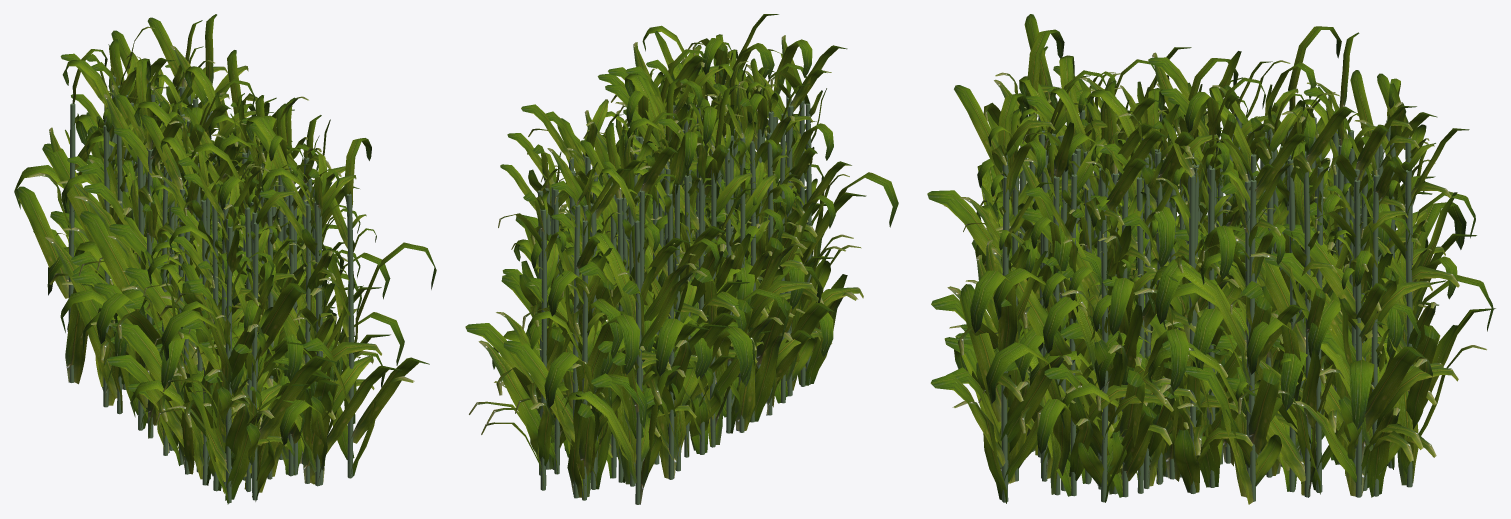
File: milharal4x10_denso4.fbx
3 views of the same model, side by side, from view 1: azimuth 30°, elevation 25°; view 2: azimuth 150°, elevation 25°; view 3: azimuth 270°, elevation 25° (orthographic). The views are drawn at different scales.
Visible parts, largest first — view 1: Plantacao2; view 2: Plantacao2; view 3: Plantacao2.
Part boxes in pixels (x1,y1,x2,y2): Plantacao2: (14,14,436,504); Plantacao2: (465,14,898,504); Plantacao2: (927,14,1495,504).
Size of the model in its own units: 872 by 1089 by 1397.
